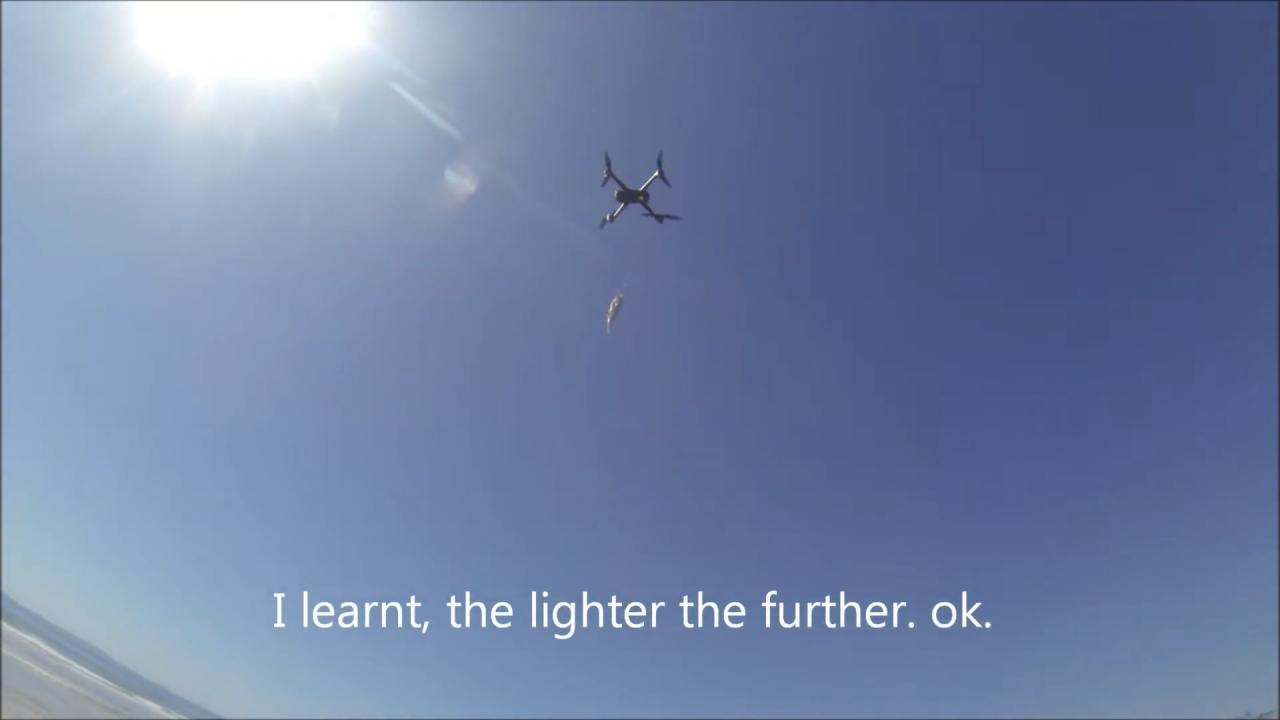Drone: (582, 140, 696, 243)
